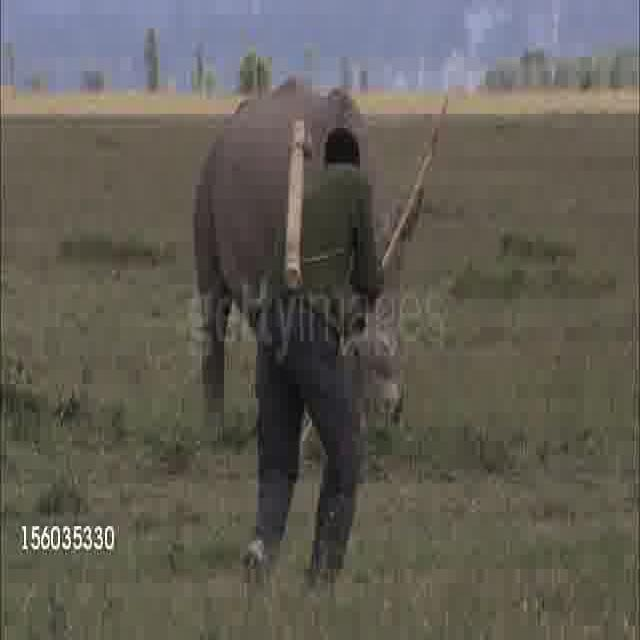poacher: (242, 205, 408, 622)
weapon: (255, 170, 309, 308)
